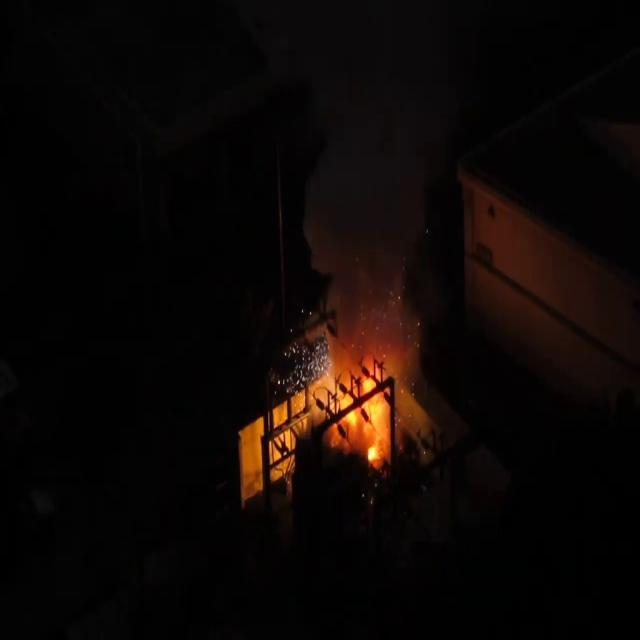Fire: (332, 353, 396, 459)
Smoke: (303, 124, 433, 364)
